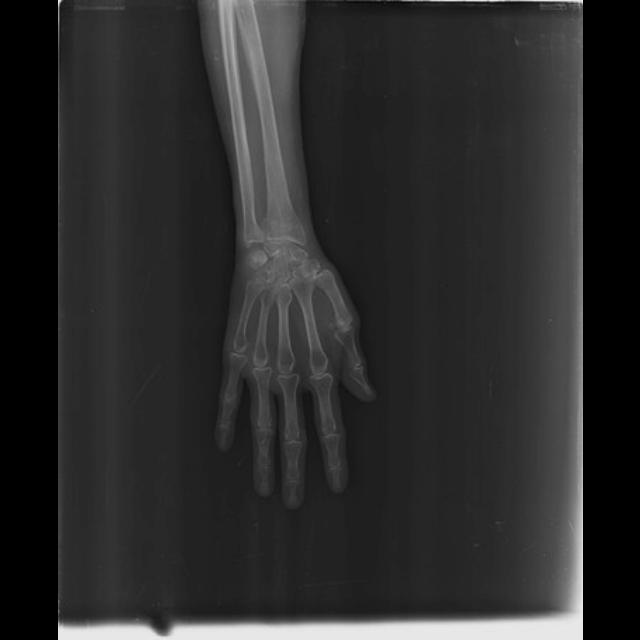Fracture: (262, 206, 304, 238)
